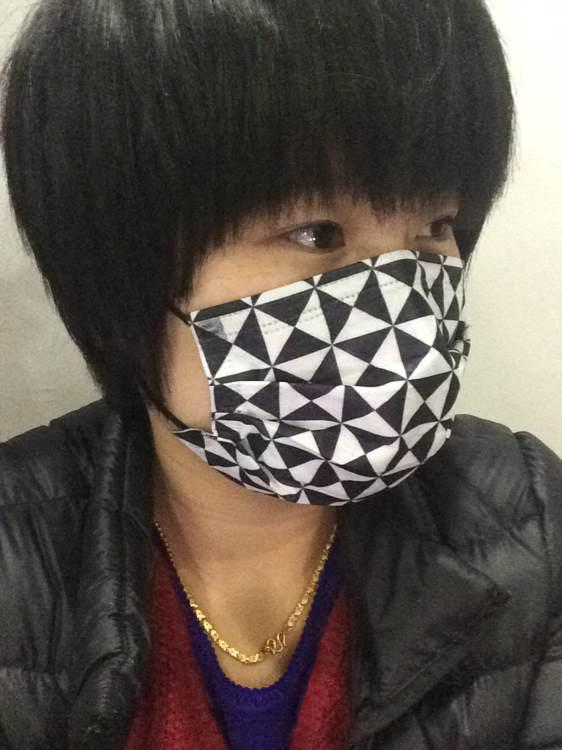OK: (131, 148, 478, 495)
